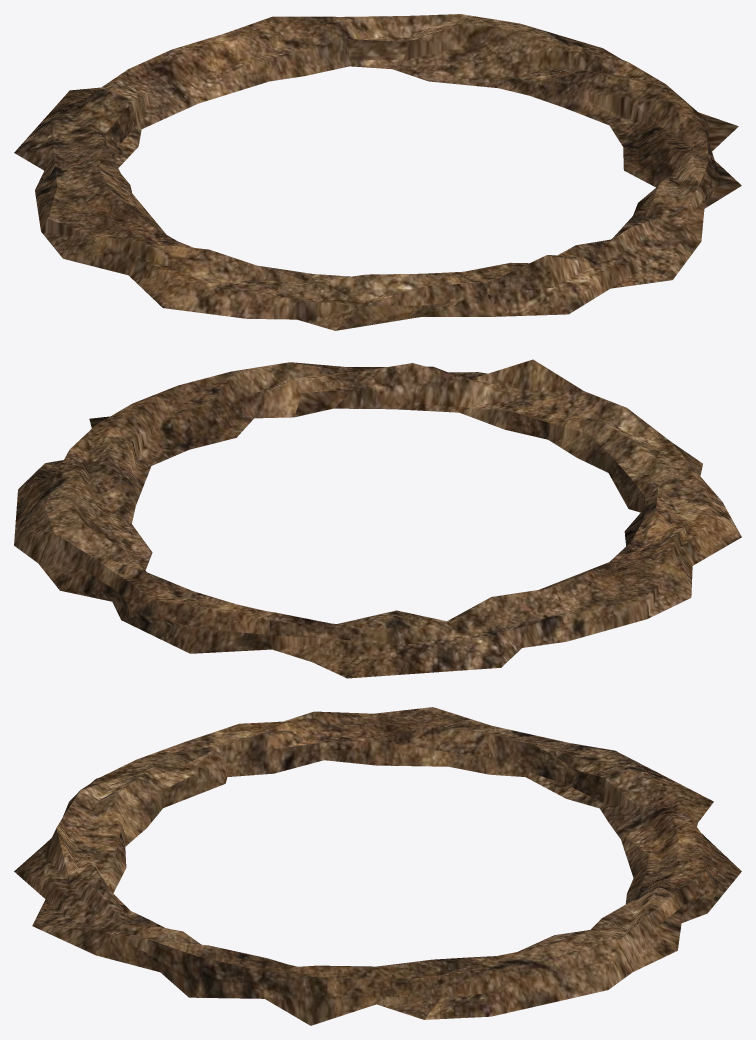
Rendered from PitEdge.fbx.
3 renders of one model, top to bottom at view 1: azimuth 30°, elevation 25°; view 2: azimuth 150°, elevation 25°; view 3: azimuth 270°, elevation 25°, orthographic.
Visible parts, largest first — view 1: Top_Edge; view 2: Top_Edge; view 3: Top_Edge.
Boxes of the visible parts, x1,y1,x2,y2 form: Top_Edge: [14, 14, 741, 330]; Top_Edge: [14, 359, 741, 678]; Top_Edge: [14, 707, 741, 1025].
Size of the model in its own units: 8.47 by 0.5558 by 8.41.
